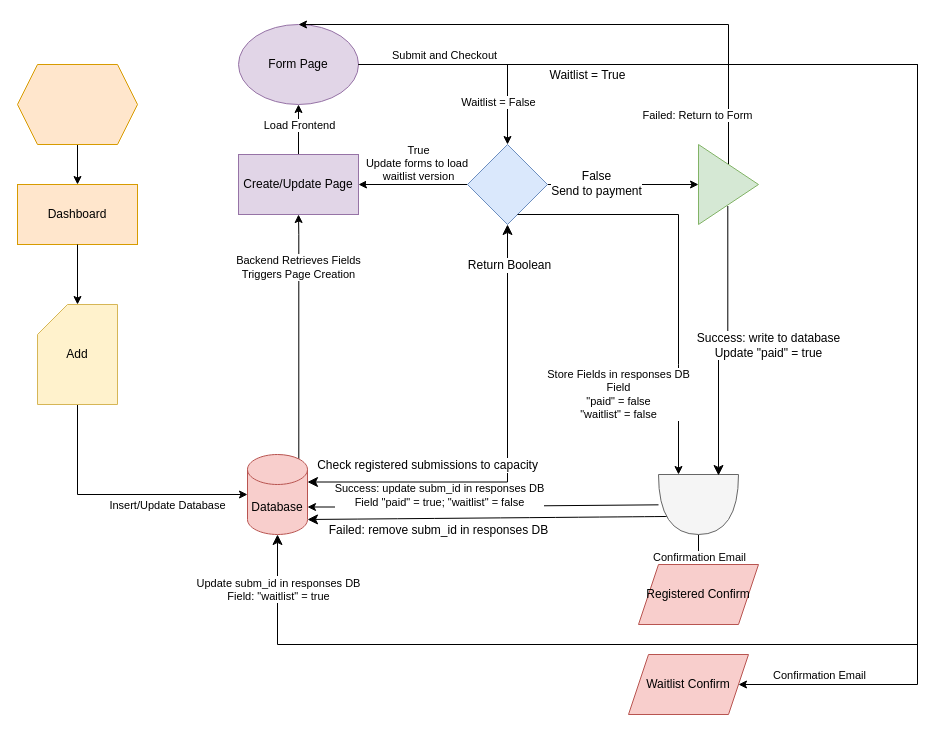
The diagram is 945 pixels wide and 732 high, and some of its shapes have lost their labels. The box of each missing label's shape, as (x1, y1, x2, y2) in pixels:
Admin Page: (16, 64, 138, 144)
AND: (658, 474, 738, 534)
Check Waitlist: (466, 144, 548, 224)
Payment: (698, 144, 758, 224)
